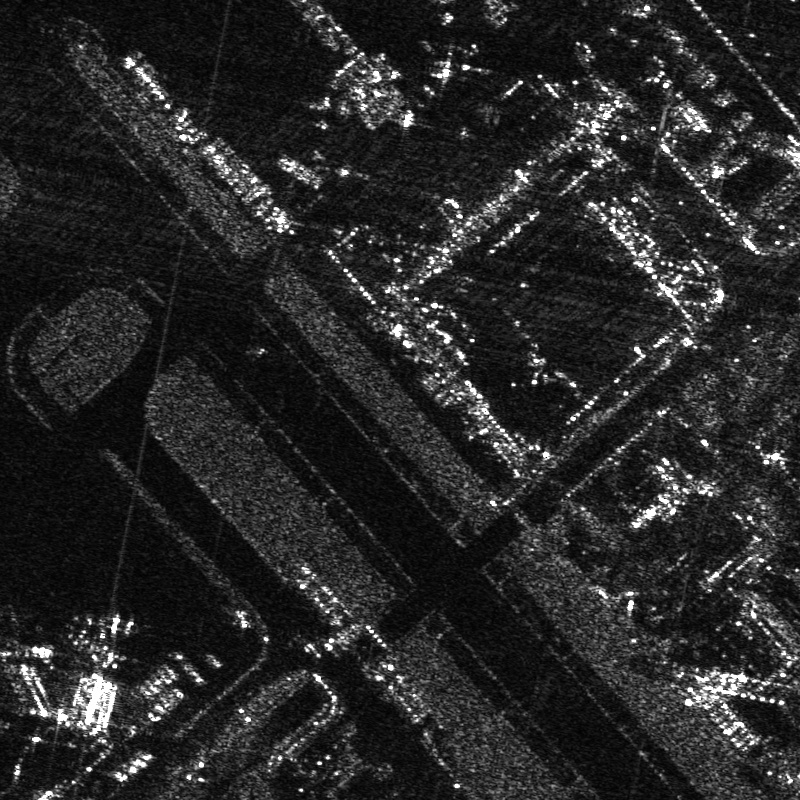Boeing737: (1, 601, 57, 670)
Boeing787: (69, 603, 154, 672)
